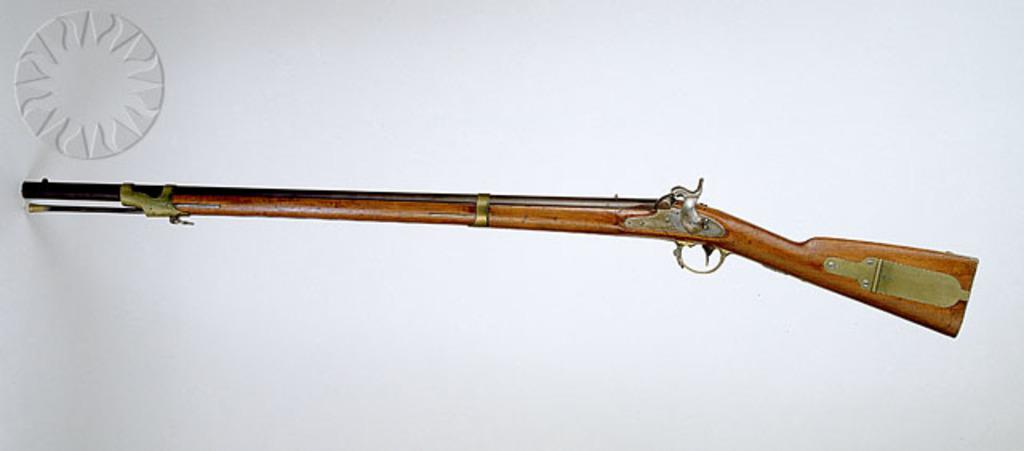Rifle: (18, 181, 982, 331)
